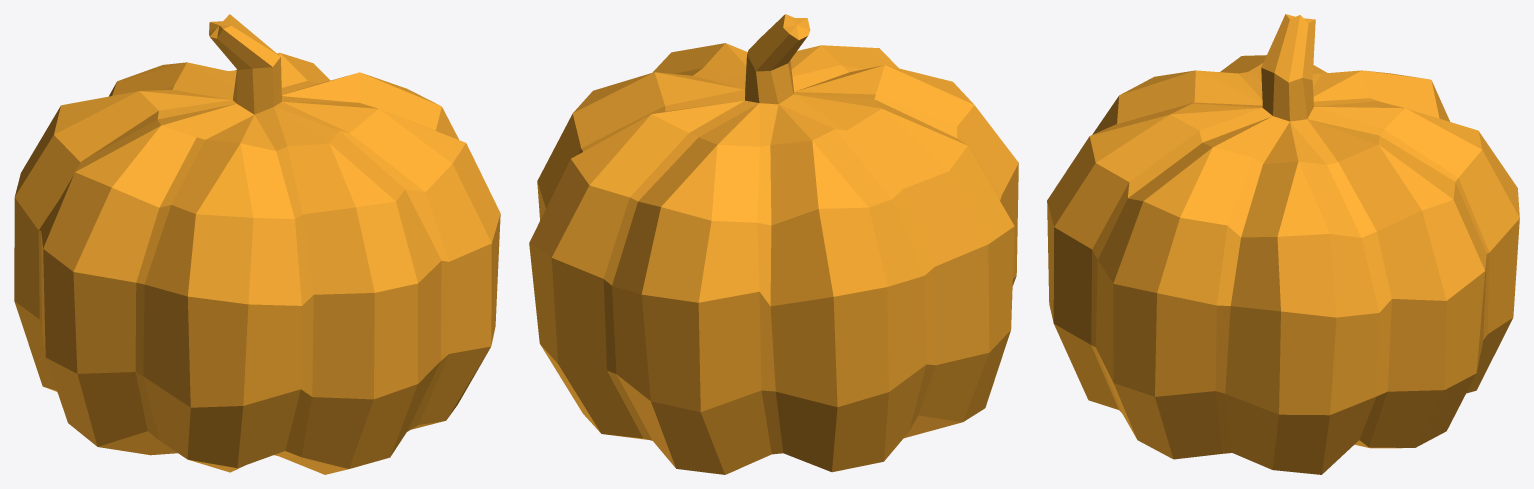
The model's file is SM_Pumpkin_D.fbx.
3 renders of one model, left to right at view 1: azimuth 30°, elevation 25°; view 2: azimuth 150°, elevation 25°; view 3: azimuth 270°, elevation 25°, orthographic. The views are drawn at different scales.
Visible parts, largest first — view 1: pumpkin-d; view 2: pumpkin-d; view 3: pumpkin-d.
Part boxes in pixels (left/top/right/bottom): pumpkin-d: left=14, top=14, right=500, bottom=474; pumpkin-d: left=529, top=14, right=1018, bottom=474; pumpkin-d: left=1047, top=14, right=1519, bottom=474.
Bounding box in the file's own units: 0.3731 × 0.3512 × 0.3747.
